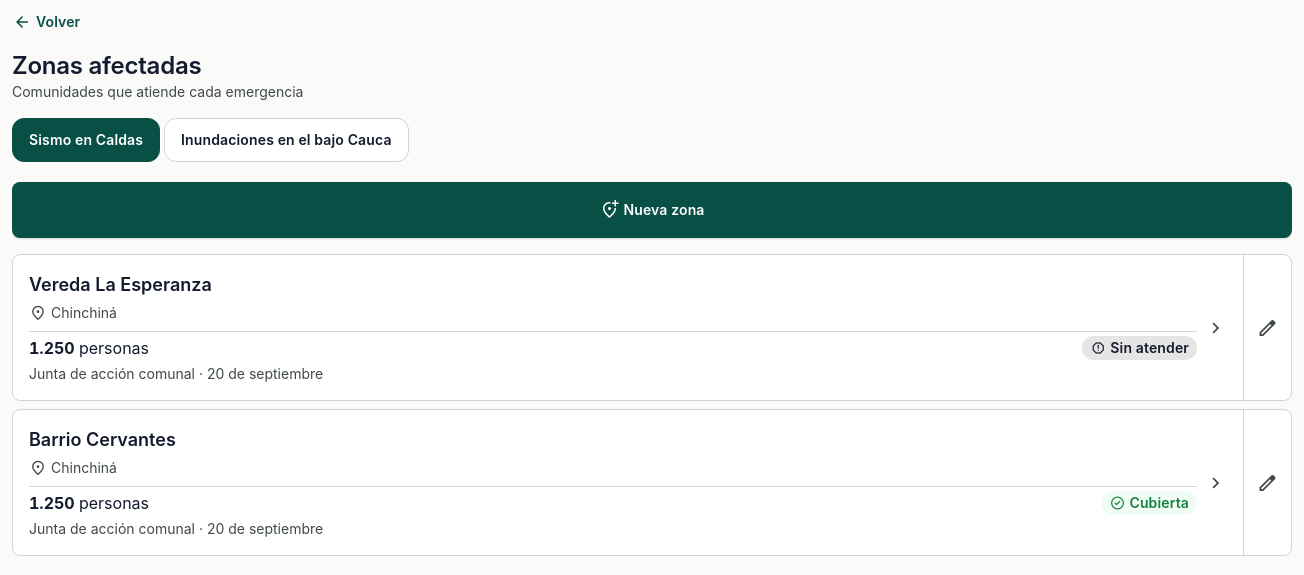
Test: con la emergencia cerrada avisa, no deja crear y las zonas quedan en solo lectura
This screenshot has width=1304, height=575.
What coordinates should you click on to do the following:
click the button "Inundaciones en el bajo Cauca"
I would click on:
 (286, 140)
Its box is [164, 118, 409, 162].
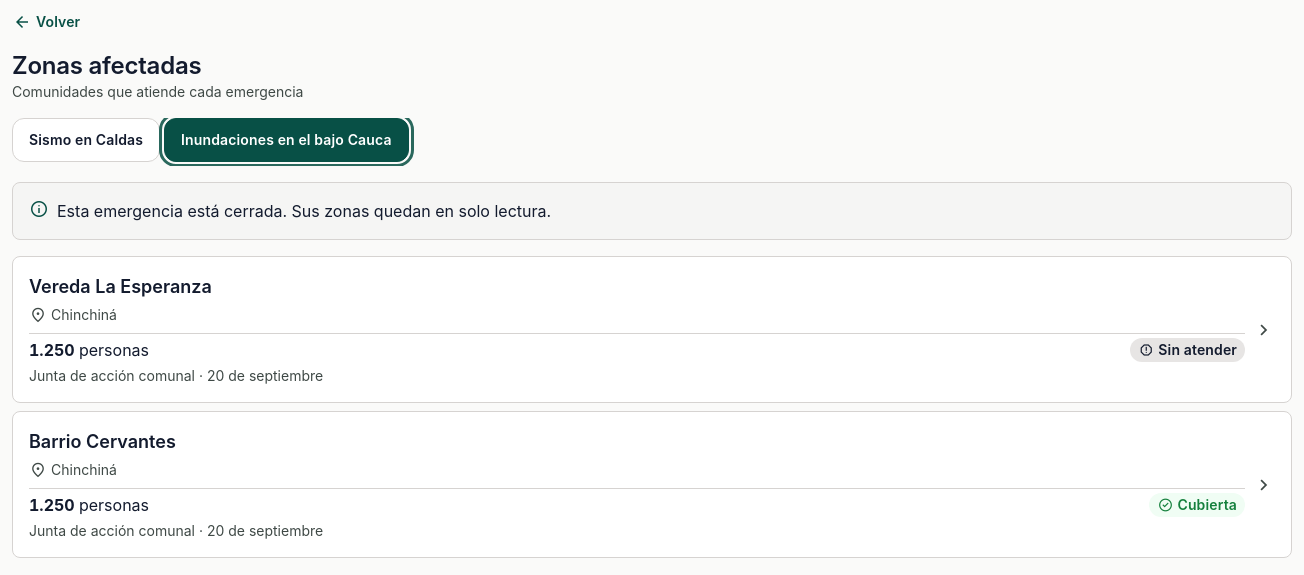
Check: the text "Vereda La Esperanza" is shown, box [29, 276, 212, 297]
Check: the text "Esta emergencia está cerrada" is shown, box [57, 201, 551, 221]
Check: the button "Nueva zona" is gone
